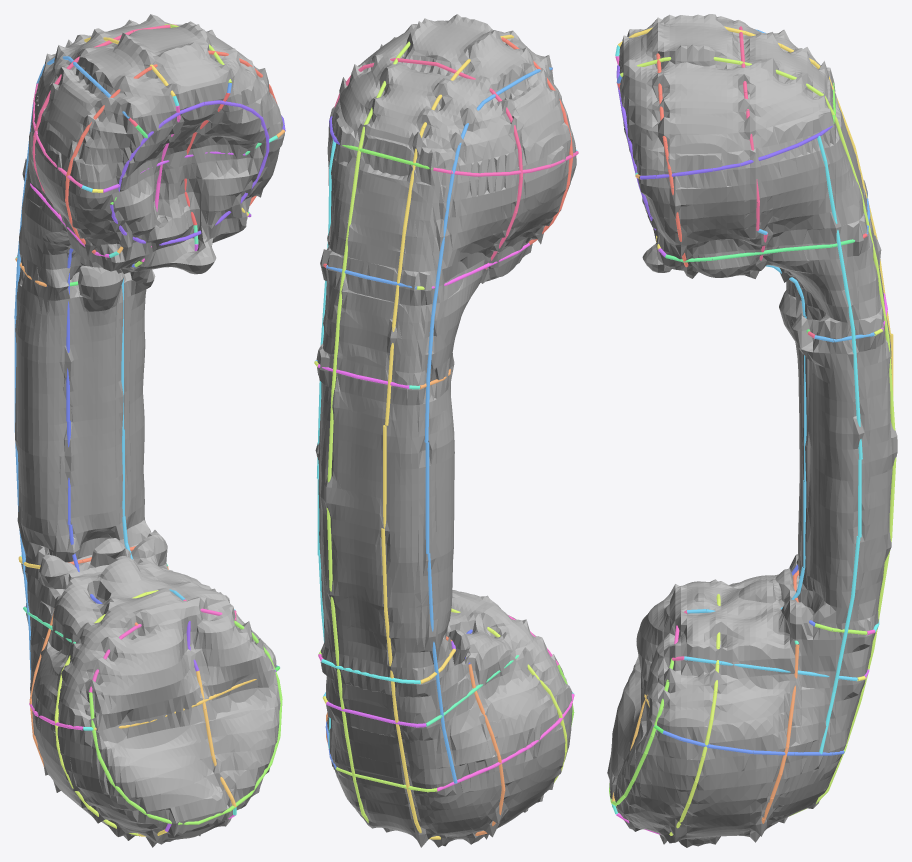
Rendered from flowrep_phone.gltf.
The picture shows the model from 3 angles, left to right: view 1: azimuth 30°, elevation 25°; view 2: azimuth 150°, elevation 25°; view 3: azimuth 270°, elevation 25°; orthographic projection.
Bounding box in the file's own units: 0.2691 × 0.9408 × 0.307.
